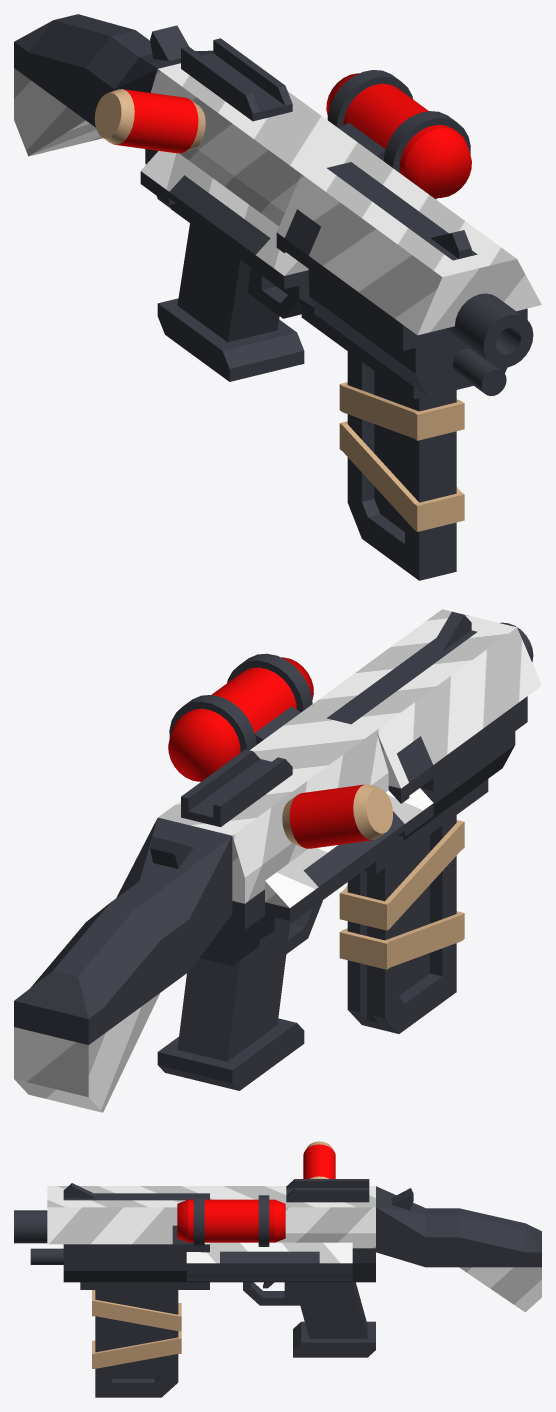
Rendered from SM_GasSMG_withmag_baketex.fbx.
The picture shows the model from 3 angles, top to bottom: view 1: azimuth 30°, elevation 25°; view 2: azimuth 150°, elevation 25°; view 3: azimuth 270°, elevation 25°; orthographic projection. The views are drawn at different scales.
Visible parts, largest first — view 1: largeBlaster_barrelAssault, mediumBlaster_handle, clip_tape, largeBlaster_centerDetail (×2), stock_solid, attachment_barrel, attachment_handle, detailRail_front, detailTargetSightFront; view 2: stock_solid, mediumBlaster_handle, largeBlaster_barrelAssault, clip_tape, largeBlaster_centerDetail (×2), attachment_barrel, attachment_handle, detailRail_front, detailTargetSightFront; view 3: largeBlaster_barrelAssault, mediumBlaster_handle, stock_solid, clip_tape, largeBlaster_centerDetail (×2), attachment_barrel, detailRail_front, attachment_handle, detailTargetSightFront.
Part boxes in pixels (<box>): largeBlaster_barrelAssault: <box>317,185,541,399</box>; mediumBlaster_handle: <box>145,63,375,381</box>; clip_tape: <box>339,351,464,580</box>; largeBlaster_centerDetail (×2): <box>140,151,415,346</box>; stock_solid: <box>14,14,213,156</box>; attachment_barrel: <box>326,70,471,199</box>; attachment_handle: <box>94,89,205,153</box>; detailRail_front: <box>181,38,292,121</box>; detailTargetSightFront: <box>431,230,471,258</box>; stock_solid: <box>14,817,232,1112</box>; mediumBlaster_handle: <box>157,712,388,1090</box>; largeBlaster_barrelAssault: <box>342,609,541,843</box>; clip_tape: <box>339,815,464,1033</box>; largeBlaster_centerDetail (×2): <box>255,683,441,946</box>; attachment_barrel: <box>168,653,313,781</box>; attachment_handle: <box>282,784,393,848</box>; detailRail_front: <box>181,749,292,827</box>; detailTargetSightFront: <box>430,611,471,651</box>; largeBlaster_barrelAssault: <box>14,1186,163,1289</box>; mediumBlaster_handle: <box>210,1186,375,1357</box>; stock_solid: <box>376,1186,541,1312</box>; clip_tape: <box>92,1290,181,1397</box>; largeBlaster_centerDetail (×2): <box>163,1186,352,1289</box>; attachment_barrel: <box>177,1195,285,1246</box>; detailRail_front: <box>286,1179,369,1202</box>; attachment_handle: <box>303,1141,335,1178</box>; detailTargetSightFront: <box>63,1183,96,1198</box>.
Size of the model in its own units: 10.47 by 14.42 by 31.8.
